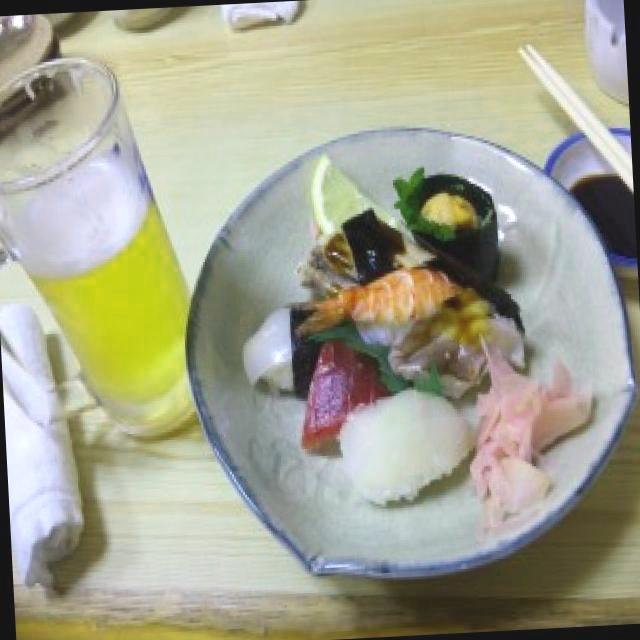Sushi: (256, 165, 573, 500)
